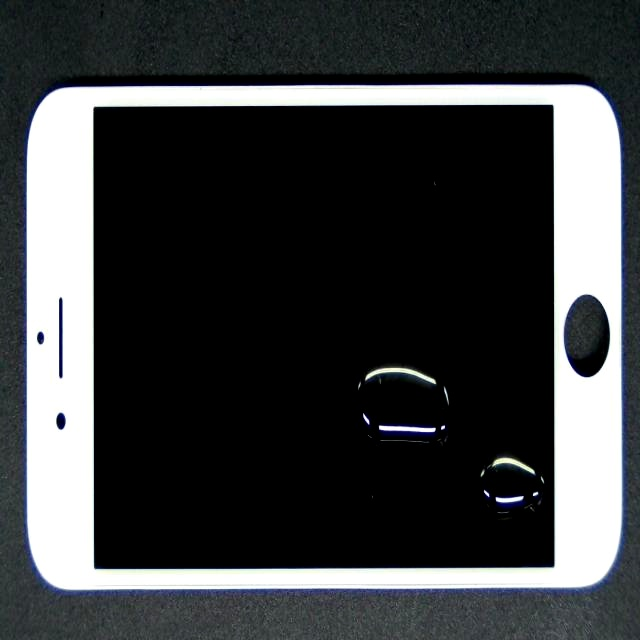oil: (252, 199, 640, 560), (291, 264, 640, 640)
